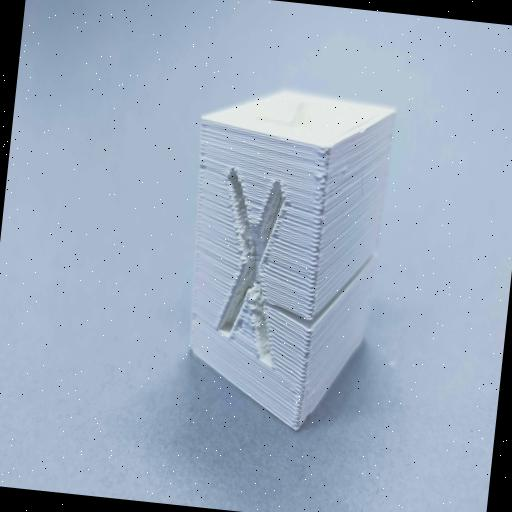cracks: (258, 280, 354, 352), (180, 154, 220, 193)
